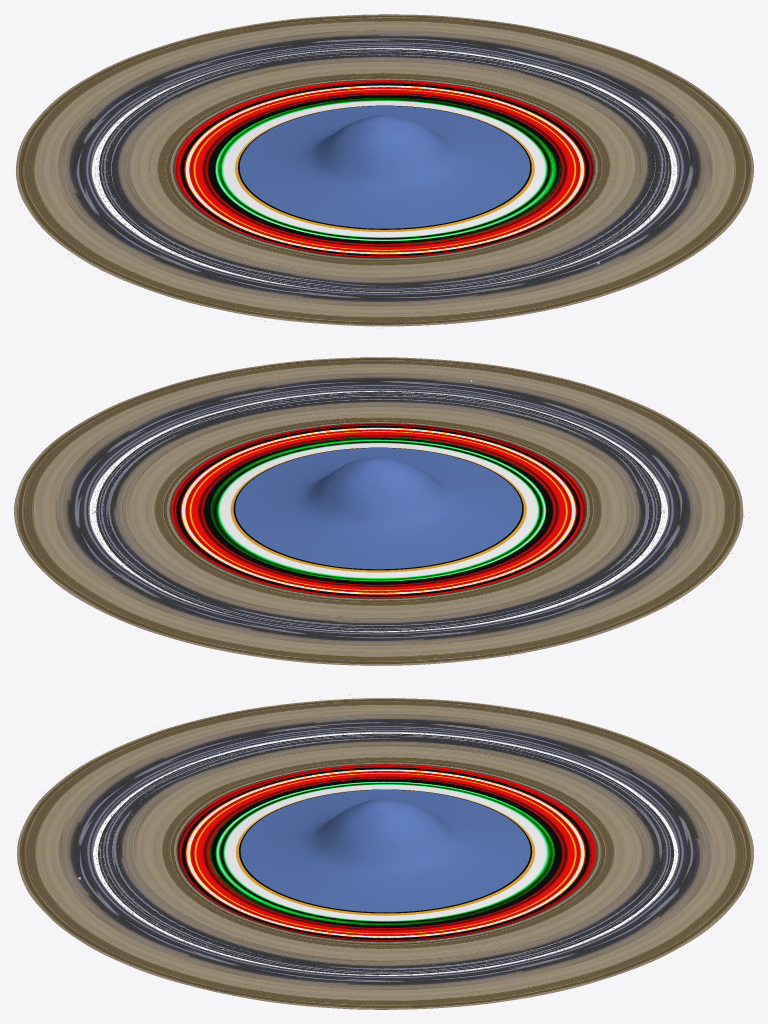
Rendered from black hole.fbx.
3 renders of one model, top to bottom at view 1: azimuth 30°, elevation 25°; view 2: azimuth 150°, elevation 25°; view 3: azimuth 270°, elevation 25°, orthographic.
Parts seen in each view (by area): view 1: black hole_ring, black hole; view 2: black hole_ring, black hole; view 3: black hole_ring, black hole.
Part boxes in pixels (box(x1,y1,x2,y2)): black hole_ring: box(15, 14, 753, 328); black hole: box(174, 80, 593, 257); black hole_ring: box(14, 357, 753, 665); black hole: box(171, 423, 585, 598); black hole_ring: box(14, 694, 753, 1009); black hole: box(178, 764, 596, 941).
Bounding box in the file's own units: 332830 × 46740 × 329846.
